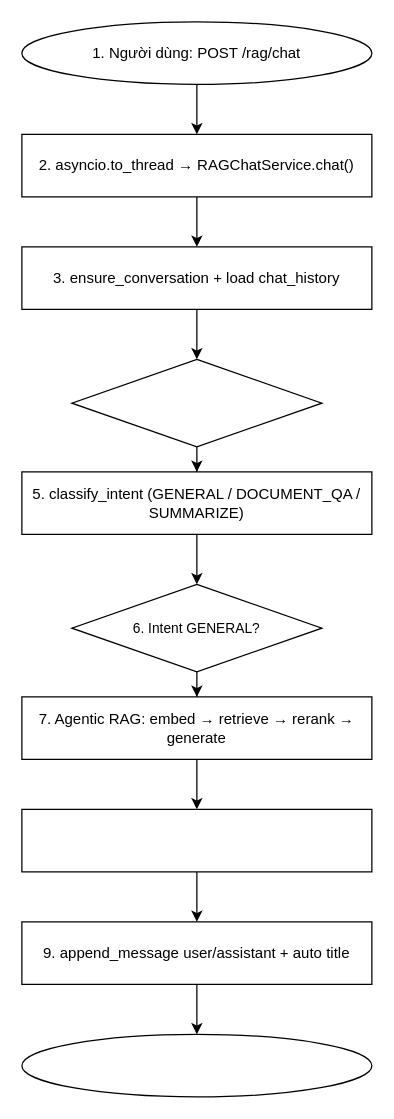
Some shapes in this 394 by 1119 pixel diagram are drawn without their labels. The centre of each missing label's shape, as x and y in pixels:
"10. Phản hồi HTTP 200 {answer, citations, confidence}" belongs at (x=196, y=1065).
"4. Response cache hit?" belongs at (x=196, y=402).
"8. GroundedGenerator.build_answer + faithfulness" belongs at (x=196, y=840).
